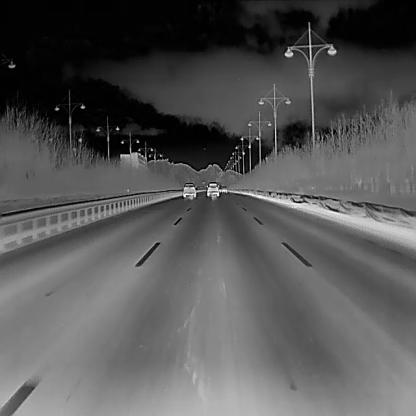car: (181, 182, 196, 197), (205, 180, 219, 196)
